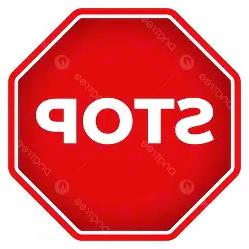Stop: (16, 15, 235, 233)
